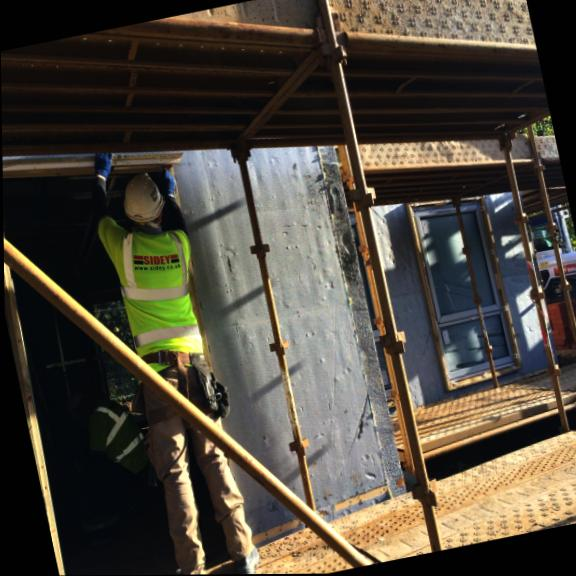safety_vest: (107, 212, 216, 392)
